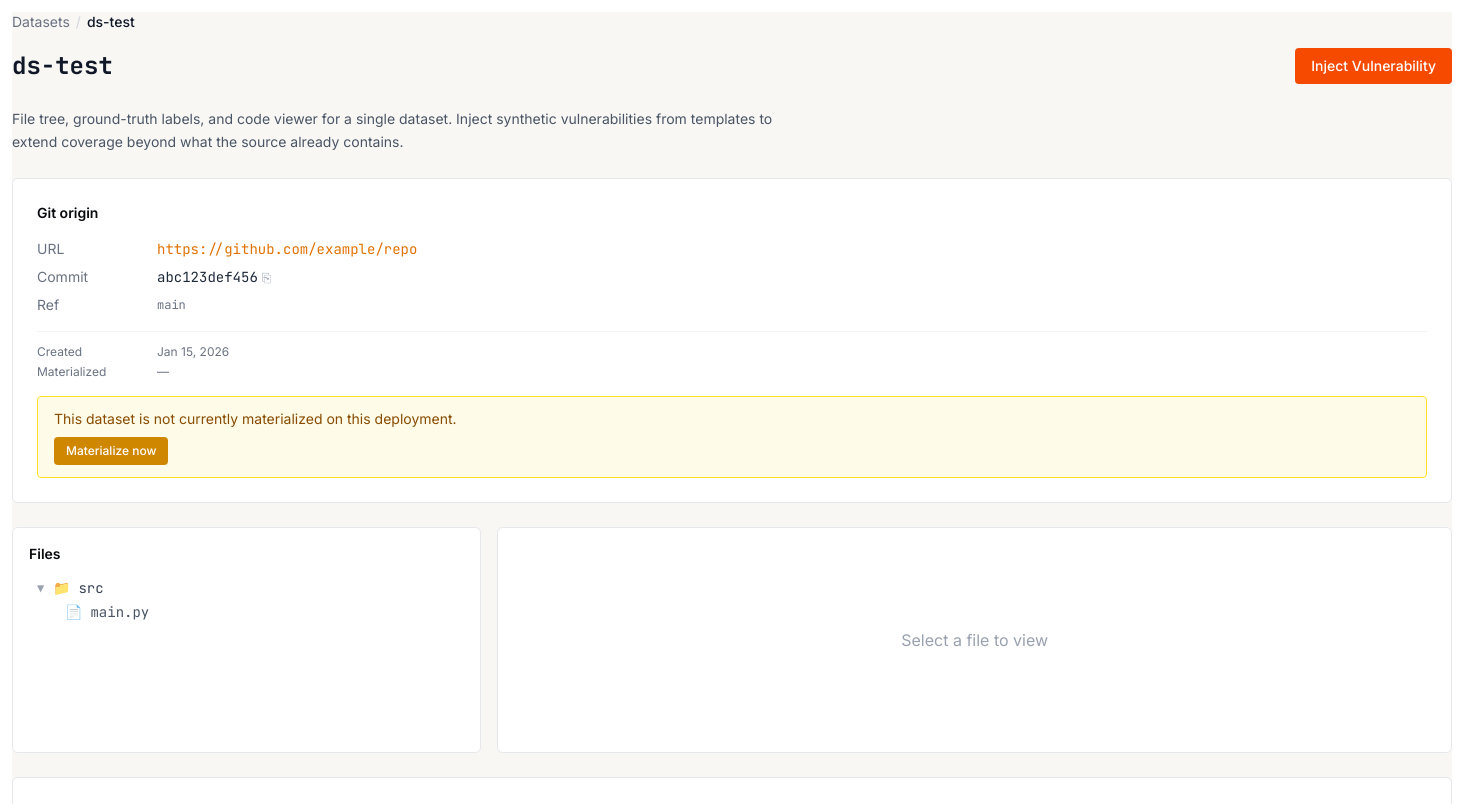
DatasetDetail — Materialization › POSTs to rematerialize and updates state on success
The width and height of the screenshot is (1464, 804).
Click the button with test id "materialize-btn" at {"x": 111, "y": 450}, box [54,436,168,464]
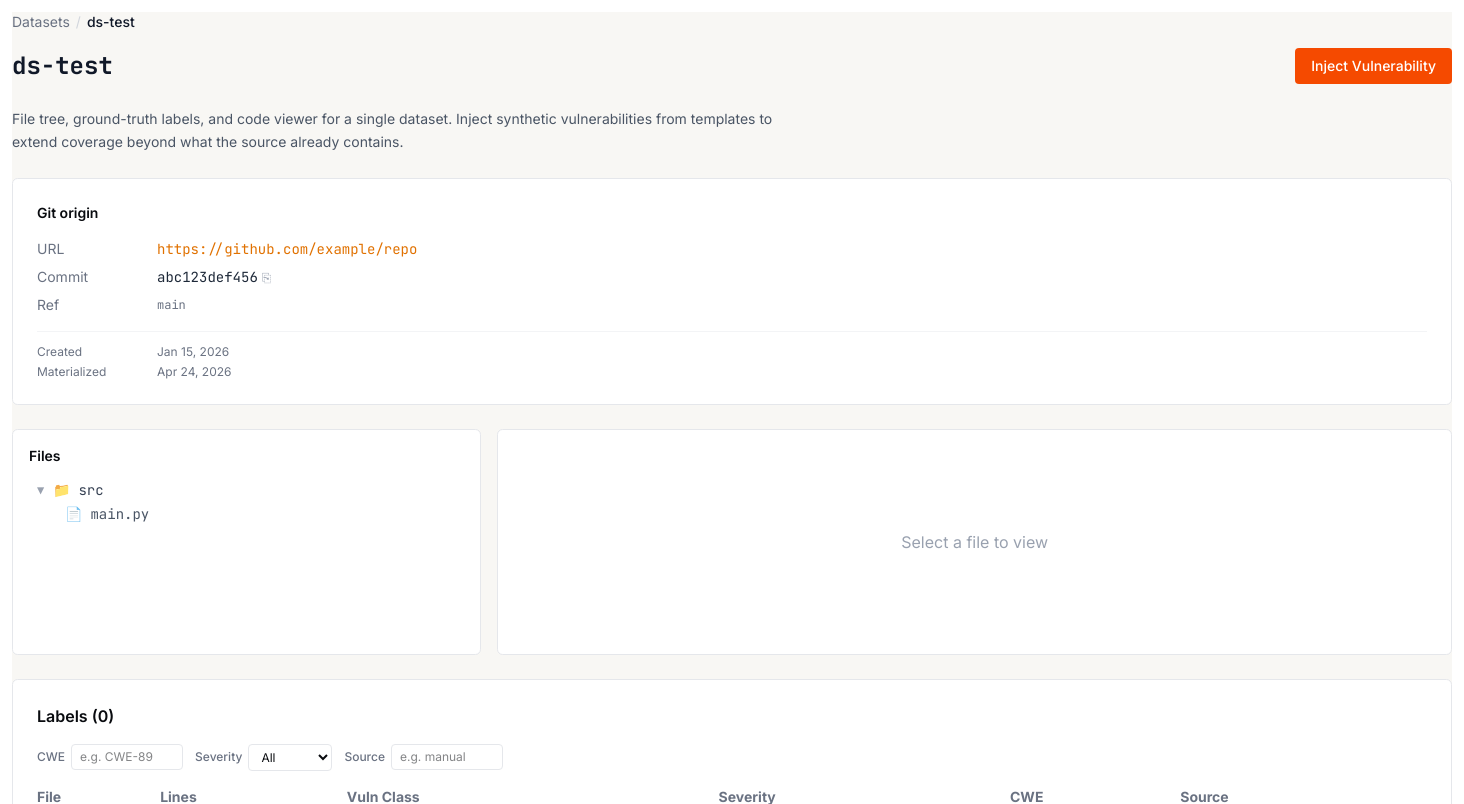
expect the text "not currently materialized" is gone: met
